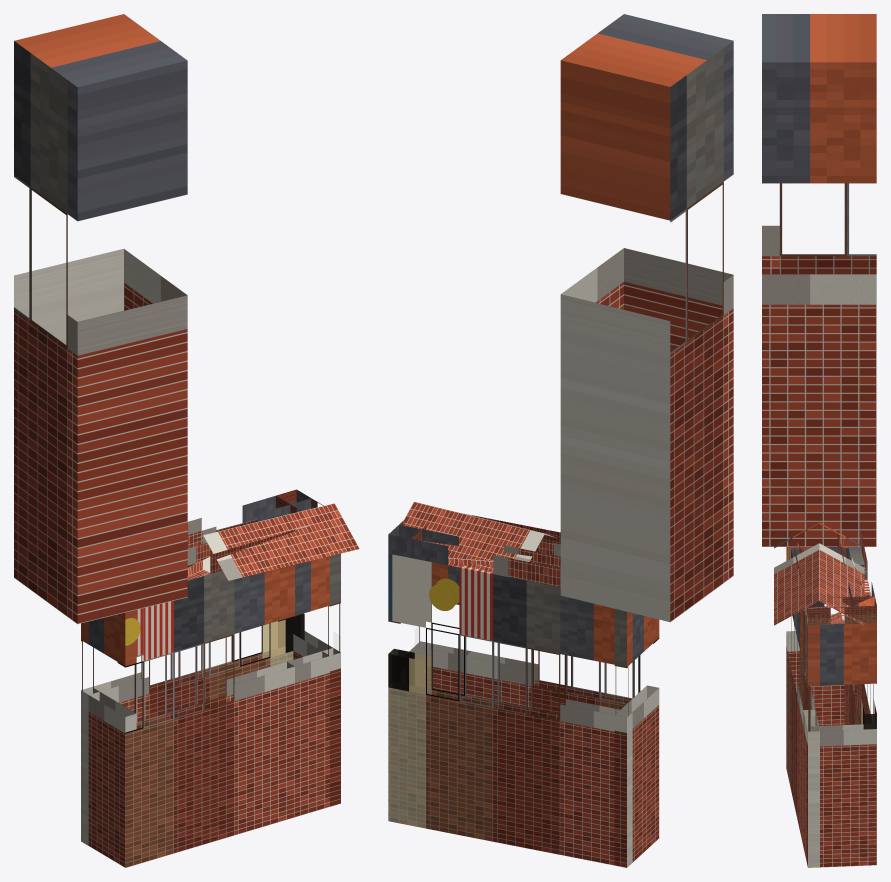
3 renders of one model, left to right at view 1: azimuth 30°, elevation 25°; view 2: azimuth 150°, elevation 25°; view 3: azimuth 270°, elevation 25°, orthographic. The views are drawn at different scales.
Visible parts, largest first — view 1: 238536134__chimney_0_xb, 238536134__wall_0_xb, 238536134__wall_4_xb, 238536134__wall_3_xb, 238536134__wall_1_xb, 238536134_roof_-1_xb, 238536134__wall_2_xb, 238536134__cornice_3, 238536134__cornice_0, 238536134__wall_3_xf; view 2: 238536134__chimney_0_xb, 238536134__wall_3_xb, 238536134__wall_4_xb, 238536134__wall_0_xb, 238536134_roof_1_xb, 238536134__cornice_3, 238536134__wall_1_xb, 238536134__wall_3_xf, 238536134__cornice_0; view 3: 238536134__chimney_0_xb, 238536134__wall_2_xb, 238536134__wall_0_xb, 238536134__wall_1_xb, 238536134_roof_-1_xb, 238536134_roof_1_xb, 238536134__wall_4_xb, 238536134__wall_3_xb, 238536134__cornice_2, 238536134__cornice_3, 238536134__cornice_1, 238536134__wall_3_xf.
Boxes of the visible parts, bbox=[...] form: 238536134__chimney_0_xb: bbox=[14, 14, 187, 624]; 238536134__wall_0_xb: bbox=[117, 565, 294, 867]; 238536134__wall_4_xb: bbox=[81, 610, 136, 867]; 238536134__wall_3_xb: bbox=[81, 565, 304, 845]; 238536134__wall_1_xb: bbox=[287, 556, 340, 817]; 238536134_roof_-1_xb: bbox=[203, 503, 359, 580]; 238536134__wall_2_xb: bbox=[293, 553, 340, 806]; 238536134__cornice_3: bbox=[187, 490, 311, 548]; 238536134__cornice_0: bbox=[187, 530, 294, 580]; 238536134__wall_3_xf: bbox=[263, 614, 304, 656]; 238536134__chimney_0_xb: bbox=[560, 14, 733, 622]; 238536134__wall_3_xb: bbox=[388, 554, 632, 867]; 238536134__wall_4_xb: bbox=[614, 609, 659, 867]; 238536134__wall_0_xb: bbox=[466, 638, 659, 713]; 238536134_roof_1_xb: bbox=[403, 501, 544, 572]; 238536134__cornice_3: bbox=[388, 525, 560, 587]; 238536134__wall_1_xb: bbox=[414, 562, 471, 694]; 238536134__wall_3_xf: bbox=[388, 554, 431, 694]; 238536134__cornice_0: bbox=[472, 515, 560, 556]; 238536134__chimney_0_xb: bbox=[762, 14, 876, 546]; 238536134__wall_2_xb: bbox=[807, 622, 876, 867]; 238536134__wall_0_xb: bbox=[786, 547, 815, 845]; 238536134__wall_1_xb: bbox=[803, 608, 819, 867]; 238536134_roof_-1_xb: bbox=[774, 522, 819, 625]; 238536134_roof_1_xb: bbox=[819, 522, 864, 625]; 238536134__wall_4_xb: bbox=[786, 547, 856, 725]; 238536134__wall_3_xb: bbox=[844, 547, 876, 729]; 238536134__cornice_2: bbox=[806, 596, 876, 624]; 238536134__cornice_3: bbox=[837, 530, 874, 606]; 238536134__cornice_1: bbox=[803, 588, 830, 625]; 238536134__wall_3_xf: bbox=[861, 701, 876, 728].
Bounding box in the file's own units: 0.3942 × 1.05 × 0.1504.
1 material, 1 textured.
